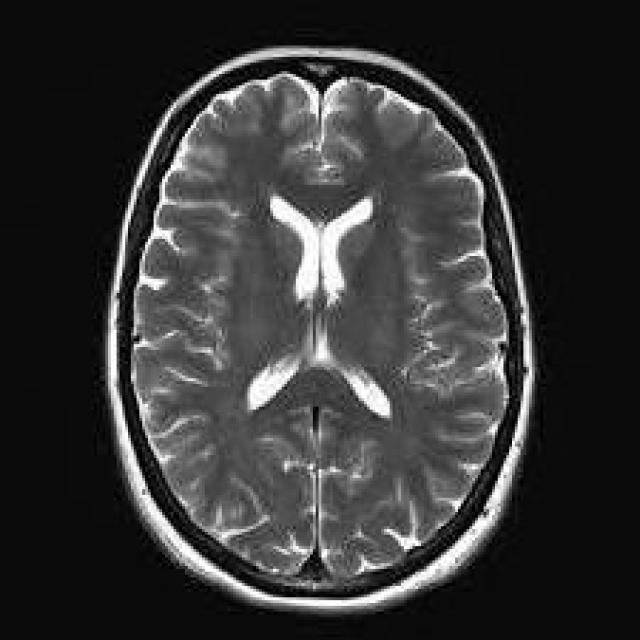No_Tumor: (106, 47, 534, 613)
